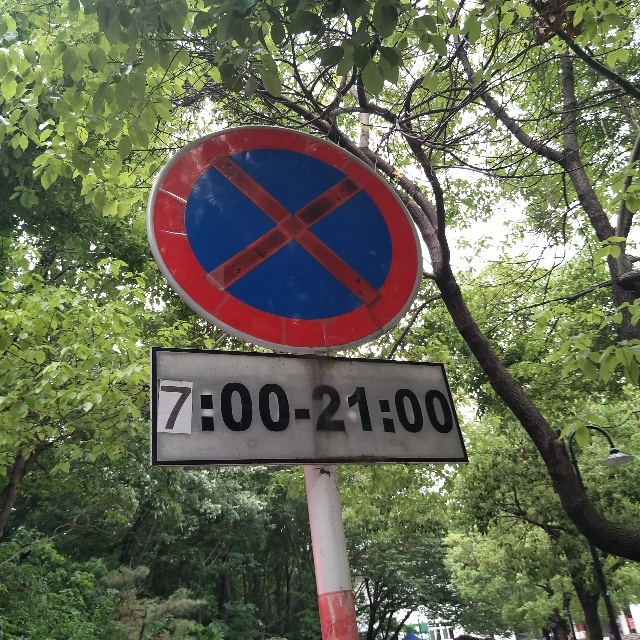stop: (166, 134, 406, 329)
